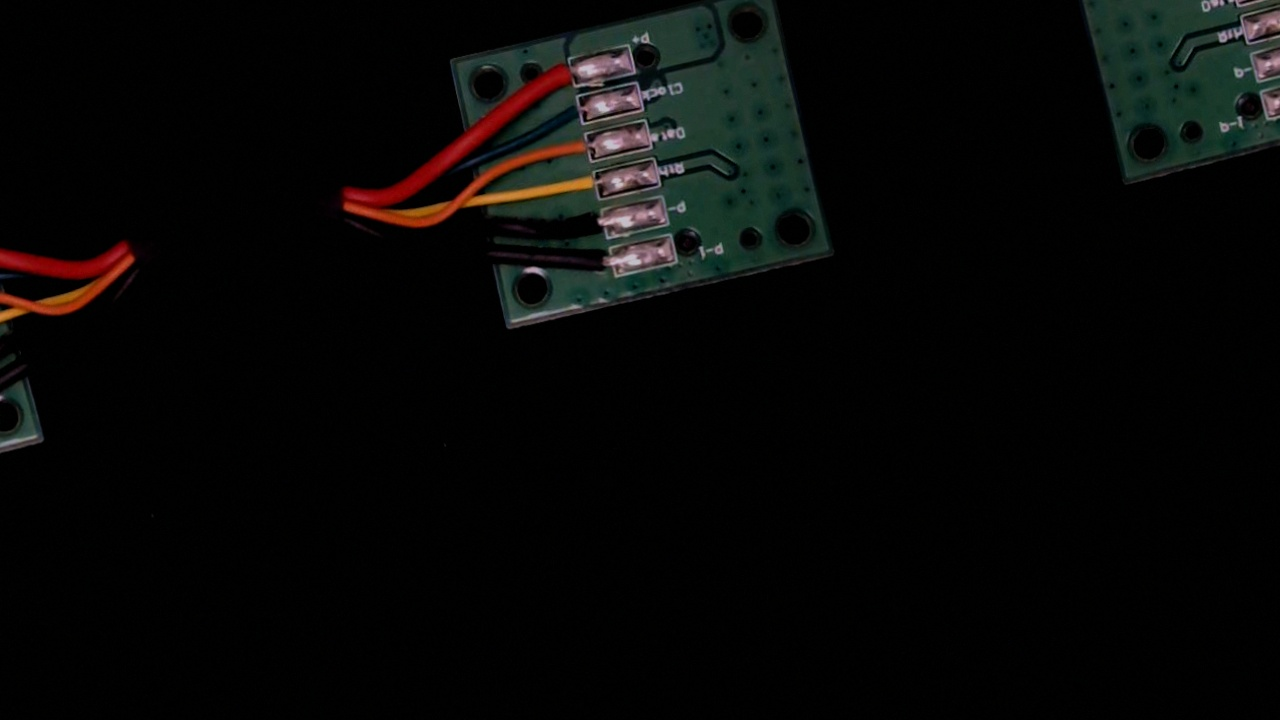Black: (546, 201, 626, 252)
Black1: (564, 242, 638, 291)
Green: (534, 91, 602, 138)
Orange: (543, 124, 611, 173)
Red: (522, 52, 591, 100)
Yellow: (539, 164, 619, 216)
